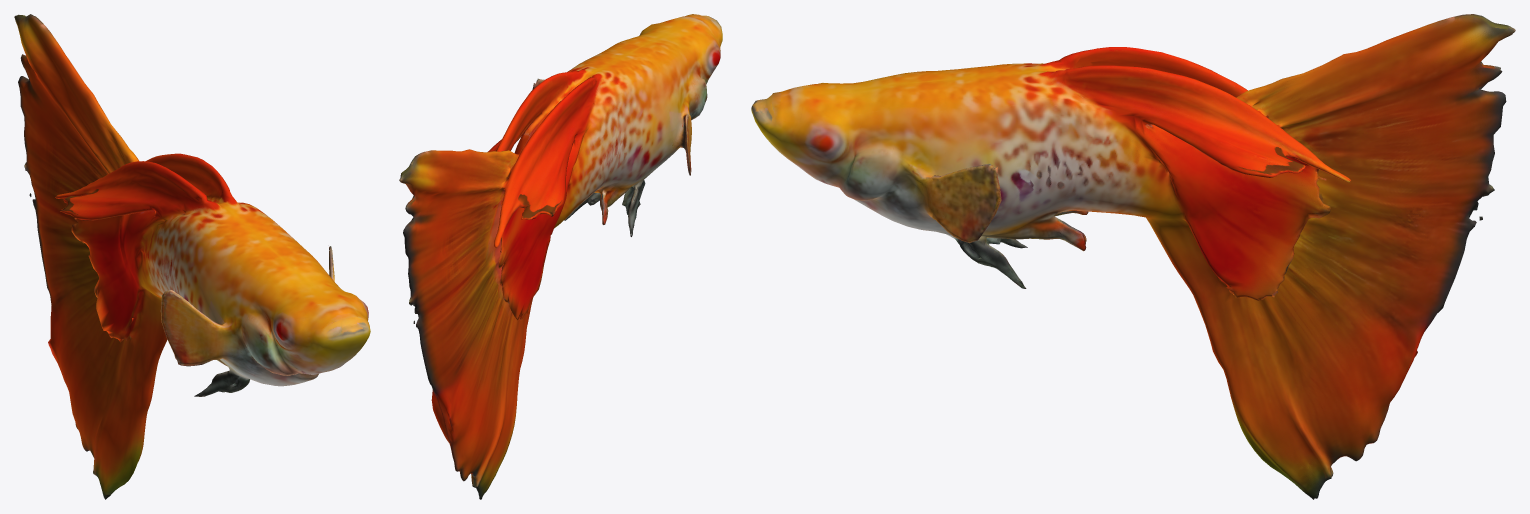
Rendered from guppy_albino_red_mesh.glb.
3 views of the same model, side by side, from view 1: azimuth 30°, elevation 25°; view 2: azimuth 150°, elevation 25°; view 3: azimuth 270°, elevation 25° (orthographic). The views are drawn at different scales.
Size of the model in its own units: 0.5852 by 1.4 by 2.
1 material, 1 textured.
